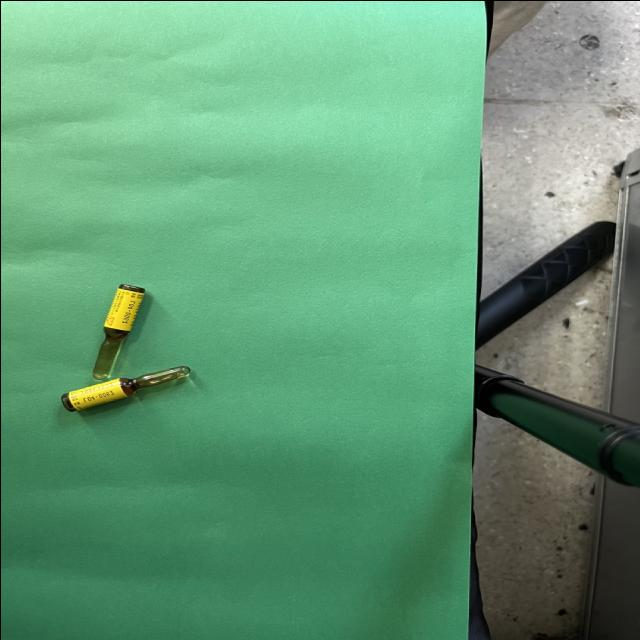Ampoules: (60, 365, 189, 411), (91, 283, 144, 380)
